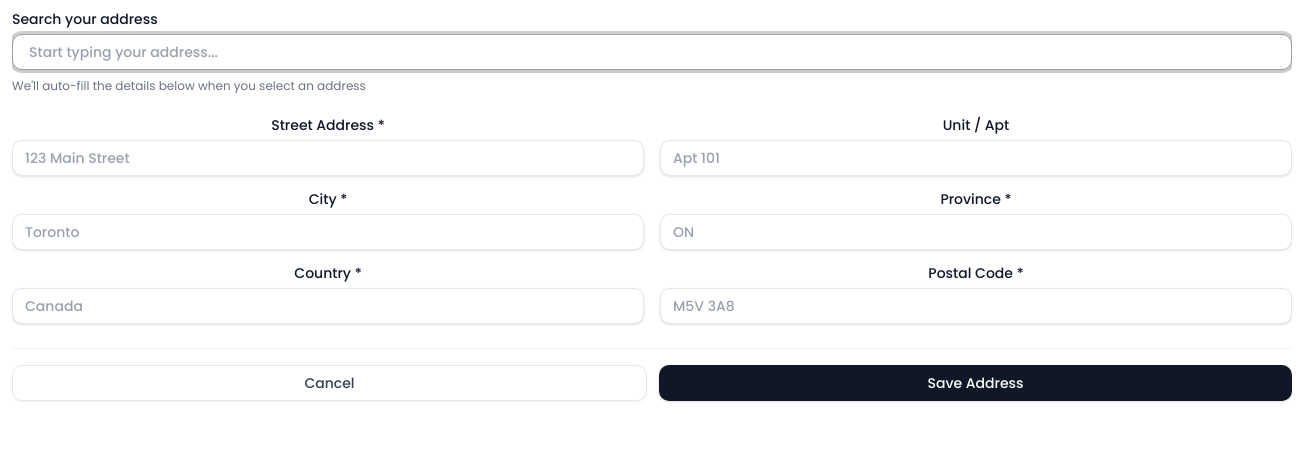
Test case: AddressForm › validates required fields on save
The image size is (1304, 463).
Click the button "Save Address": (976, 383) [659,365,1292,401]
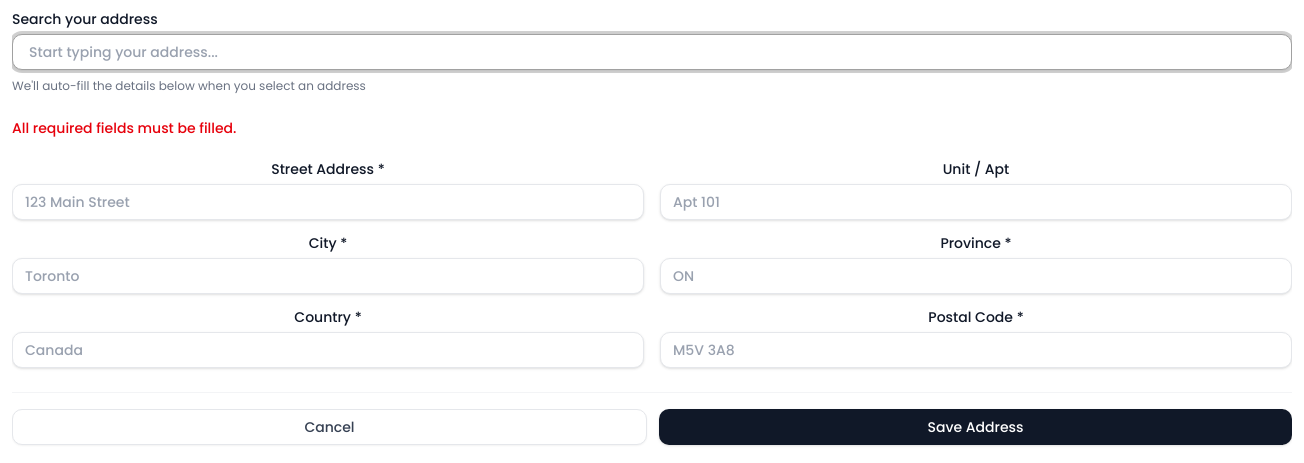
Now the text "All required fields must be filled." is shown, box [12,118,236,138]
